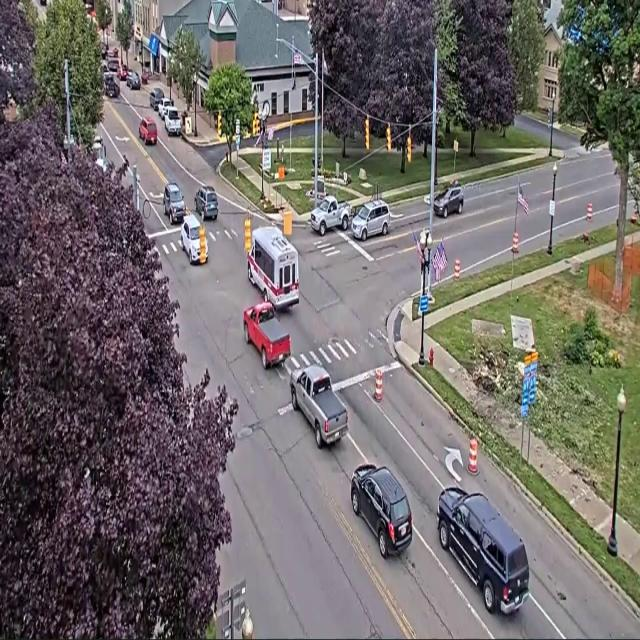car: (437, 487, 529, 614), (351, 464, 412, 558), (351, 200, 390, 240), (181, 215, 207, 264), (433, 185, 463, 218), (163, 183, 185, 224), (195, 186, 218, 219), (164, 106, 181, 135), (139, 117, 157, 144), (103, 72, 120, 98), (157, 97, 173, 119), (150, 87, 164, 111), (126, 72, 140, 89), (117, 64, 128, 81), (107, 58, 119, 73), (141, 70, 150, 84), (101, 43, 108, 59), (110, 48, 118, 57), (40, 0, 46, 6)
traffic signal: (199, 226, 207, 264), (245, 216, 251, 253), (252, 111, 259, 135), (365, 117, 369, 150), (386, 125, 391, 151), (407, 131, 411, 162), (217, 112, 221, 137), (548, 107, 552, 126)
truck: (290, 365, 348, 448), (244, 303, 290, 368), (310, 196, 351, 236)
